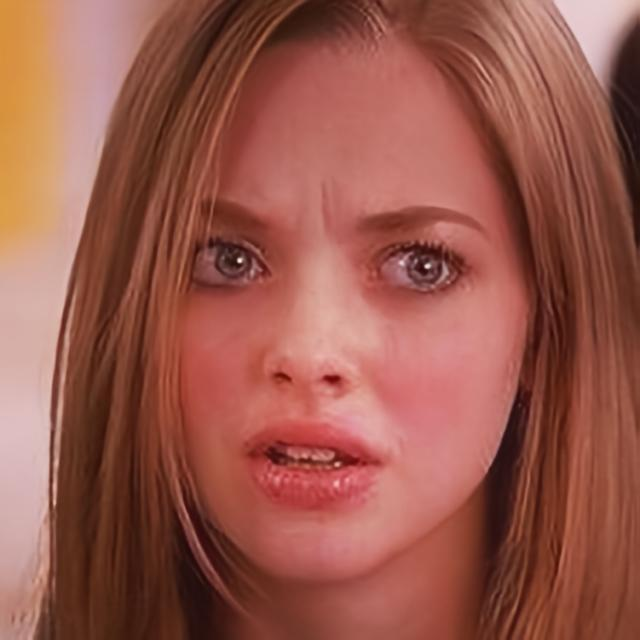fear: (172, 27, 536, 584)
